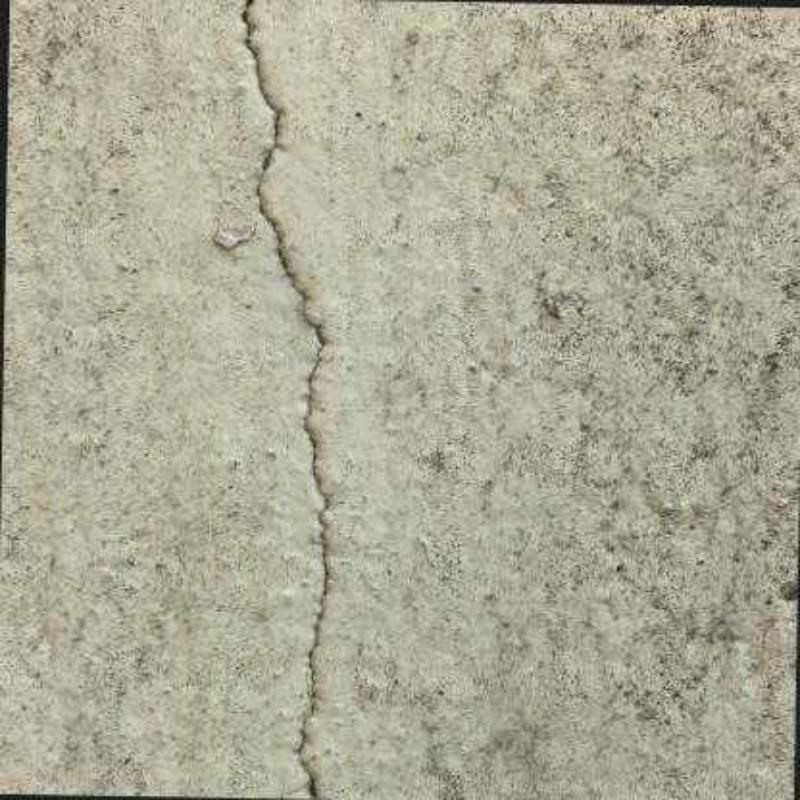pothole: (242, 1, 330, 799)
